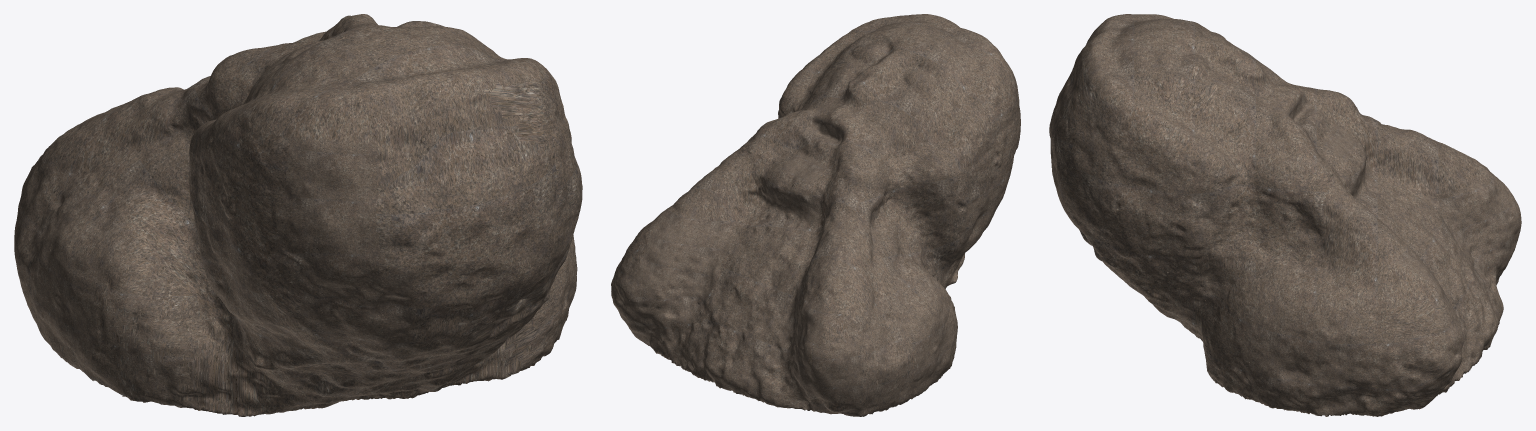
File: Schreikopf_Artefakt.glb
The picture shows the model from 3 angles, left to right: view 1: azimuth 30°, elevation 25°; view 2: azimuth 150°, elevation 25°; view 3: azimuth 270°, elevation 25°; orthographic projection. The views are drawn at different scales.
Visible parts, largest first — view 1: Mesh_0.001; view 2: Mesh_0.001; view 3: Mesh_0.001.
Part boxes in pixels (x1,y1,x2,y2): Mesh_0.001: (14, 14, 582, 416); Mesh_0.001: (611, 14, 1020, 416); Mesh_0.001: (1049, 14, 1521, 416).
Size of the model in its own units: 1.03 by 0.8348 by 1.23.
Materials: 1 (1 with a texture image).
